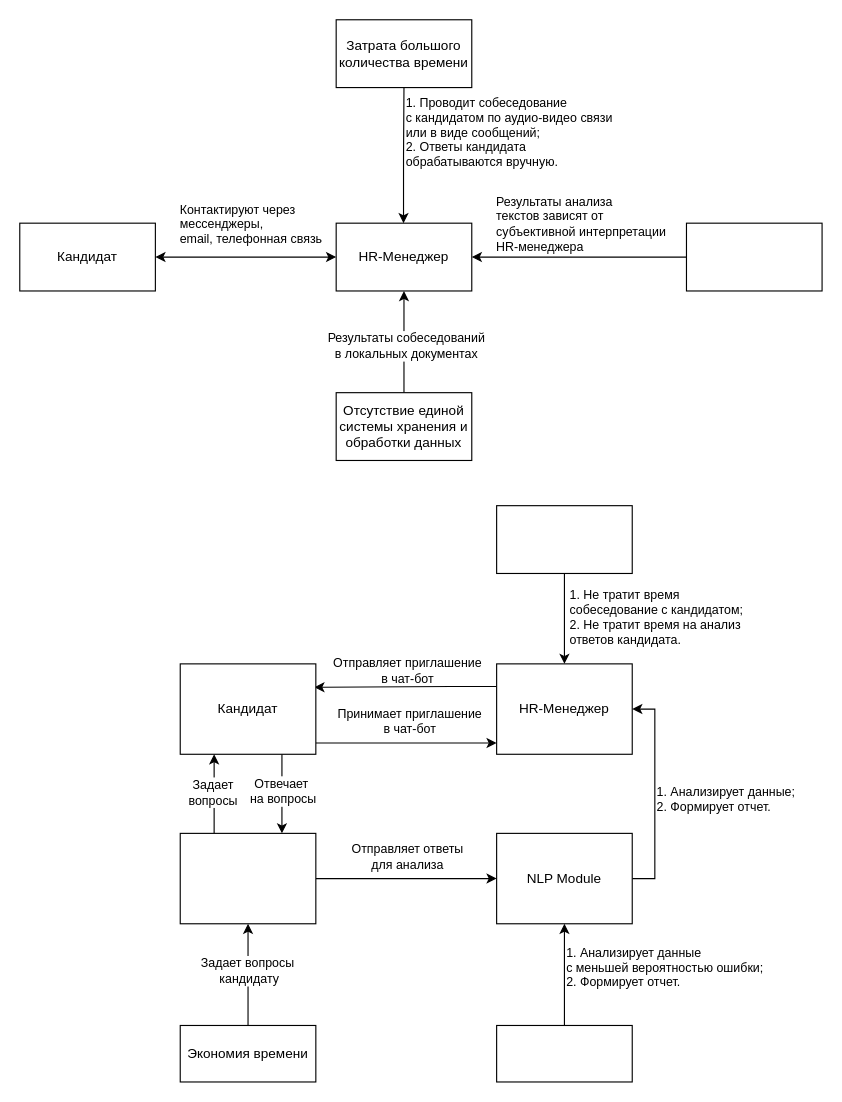
Some shapes in this 842 by 1102 pixel diagram are drawn without their labels. The shapes that lost their labels are listed below. From the top down, each one's centre as x and y in pixels, then its label:
At point (753, 256): "Человеческий фактор".
At point (564, 539): "Принимает решение на основе отчета".
At point (247, 878): "Чат-бот".
At point (564, 1053): "Экономия времени Уменьшение вероятности ошибки".
